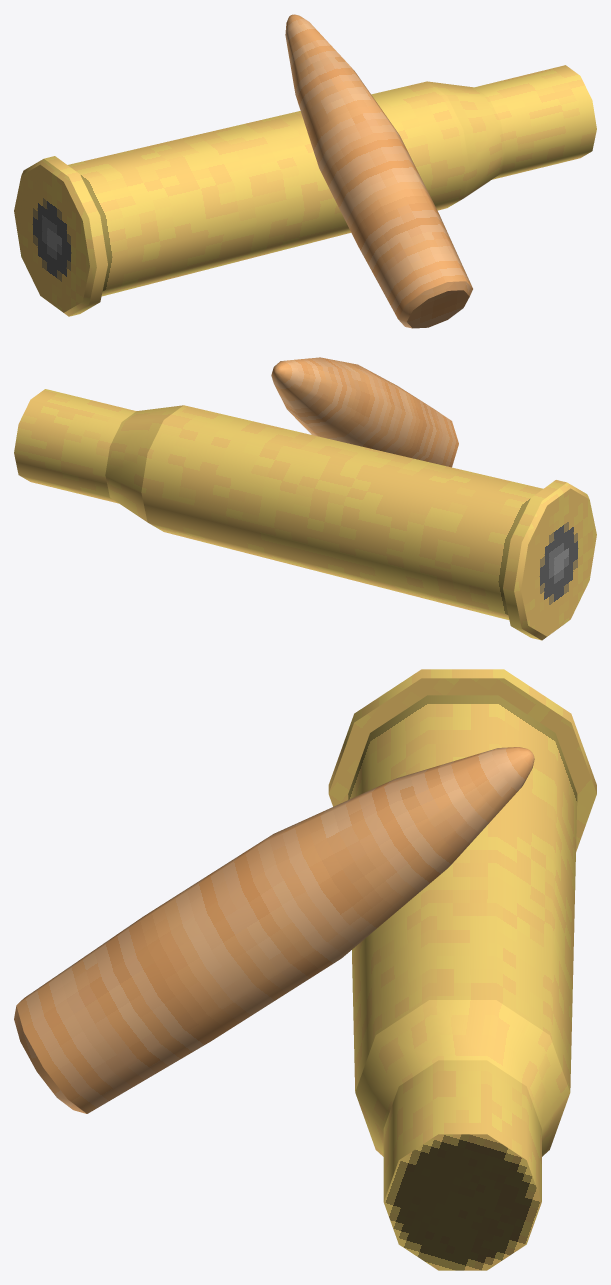
Rendered from ammomaker_PartsBottleneckMRim.fbx.
3 renders of one model, top to bottom at view 1: azimuth 30°, elevation 25°; view 2: azimuth 150°, elevation 25°; view 3: azimuth 270°, elevation 25°, orthographic. The views are drawn at different scales.
Visible parts, largest first — view 1: ammomaker_PartsBottleneckRimM; view 2: ammomaker_PartsBottleneckRimM; view 3: ammomaker_PartsBottleneckRimM.
Part boxes in pixels (x1=…): ammomaker_PartsBottleneckRimM: x1=14, y1=14, x2=596, y2=328; ammomaker_PartsBottleneckRimM: x1=14, y1=357, x2=596, y2=640; ammomaker_PartsBottleneckRimM: x1=14, y1=669, x2=596, y2=1270.
Size of the model in its own units: 5.37 by 2.14 by 3.15.
